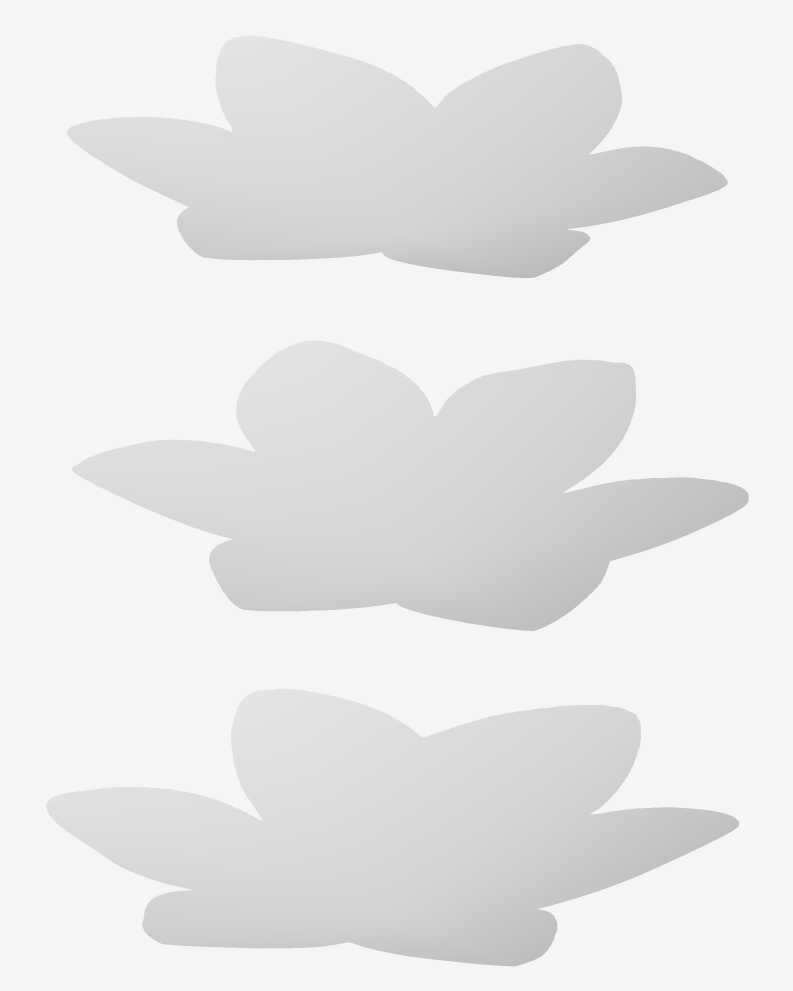
The model's file is SM_Sw_Flower_04.fbx.
The picture shows the model from 3 angles, top to bottom: view 1: azimuth 30°, elevation 25°; view 2: azimuth 150°, elevation 25°; view 3: azimuth 270°, elevation 25°; orthographic projection. The views are drawn at different scales.
Visible parts, largest first — view 1: SM_Sw_Flower_04; view 2: SM_Sw_Flower_04; view 3: SM_Sw_Flower_04.
Part boxes in pixels (<box>): SM_Sw_Flower_04: <box>66,35,727,277</box>; SM_Sw_Flower_04: <box>72,340,748,630</box>; SM_Sw_Flower_04: <box>46,688,738,966</box>.
Size of the model in its own units: 21.92 by 3.17 by 23.04.
